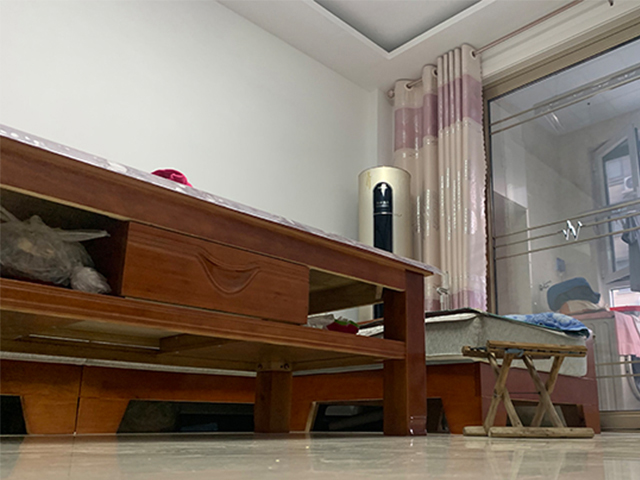curtain: (408, 44, 492, 313)
sofa: (425, 305, 602, 436)
stool: (461, 338, 596, 439)
table: (1, 134, 435, 436)
